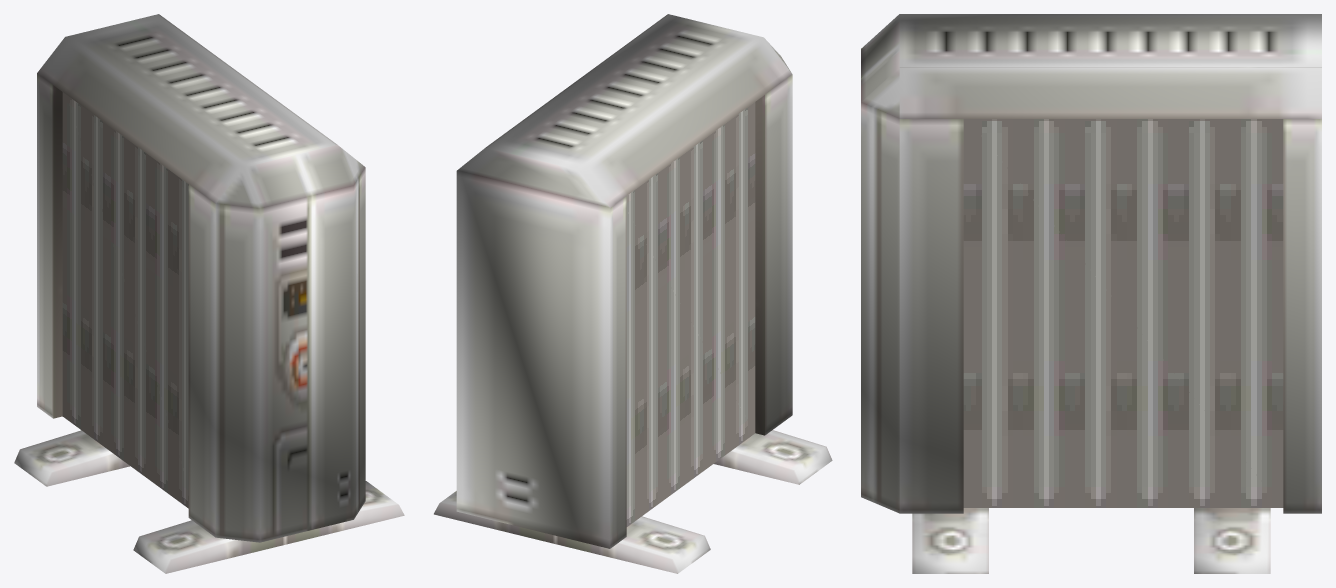
The model's file is int_oth_radiator.dae.
3 views of the same model, side by side, from view 1: azimuth 30°, elevation 25°; view 2: azimuth 150°, elevation 25°; view 3: azimuth 270°, elevation 25° (orthographic). The views are drawn at different scales.
Parts seen in each view (by area): view 1: int_oth_radiator; view 2: int_oth_radiator; view 3: int_oth_radiator.
Part boxes in pixels (bbox=[...]): int_oth_radiator: bbox=[14, 14, 404, 573]; int_oth_radiator: bbox=[434, 14, 832, 573]; int_oth_radiator: bbox=[861, 14, 1321, 573].
Size of the model in its own units: 20.4 by 32 by 28.8.
2 materials, 2 textured.
